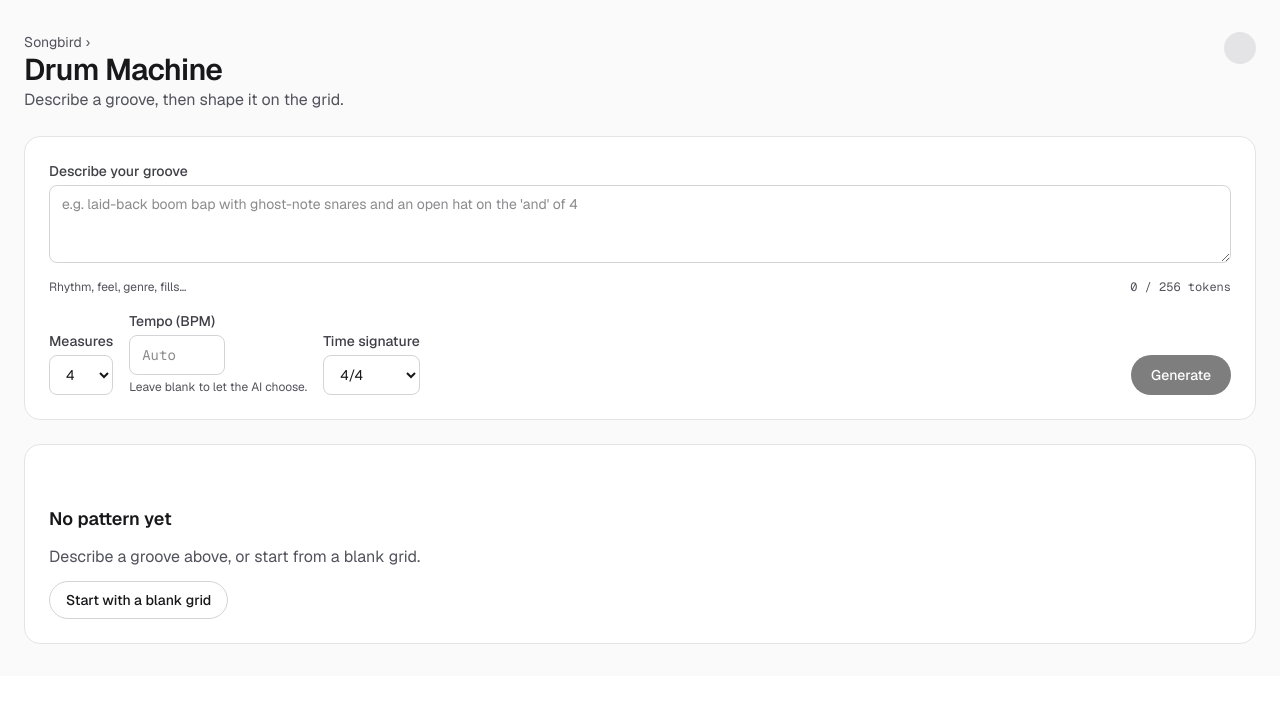
prompt form › shows 10 / 256 for a 40-character description
Check: the dropdown labelled "Measures" is enabled, box [49, 355, 113, 395]
Type "laid-back boom-bap with ghosted snares!!" into the text box labelled "Describe your groove" at coordinates (640, 224), box [49, 185, 1231, 263]
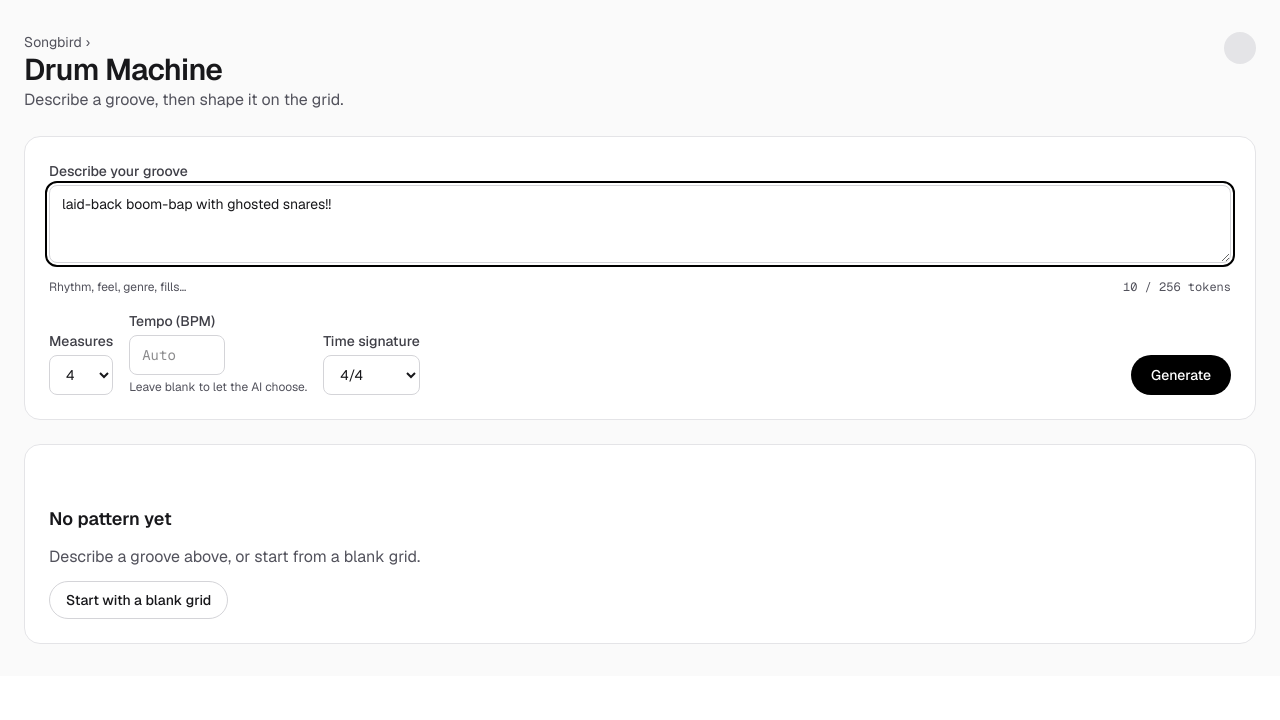
Check: the text "10 / 256" is shown, box [1123, 279, 1181, 295]
